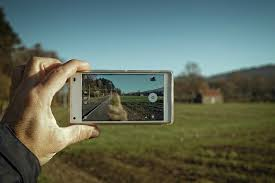camera: (146, 91, 159, 104)
